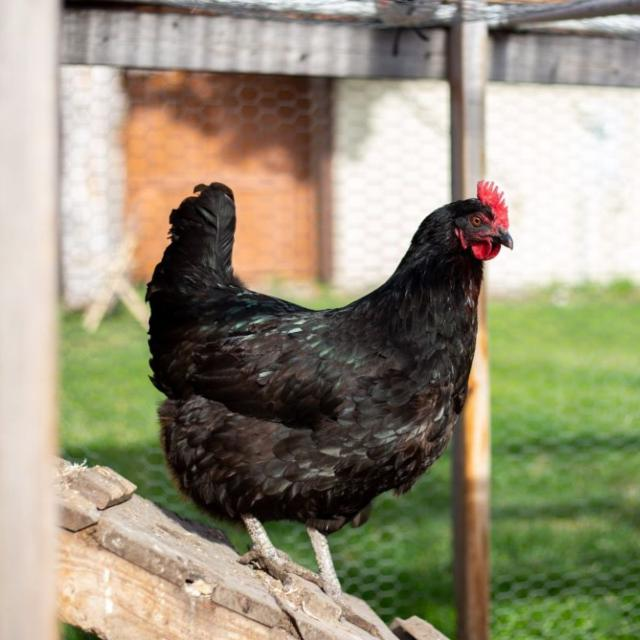Chicken: (146, 180, 515, 640)
